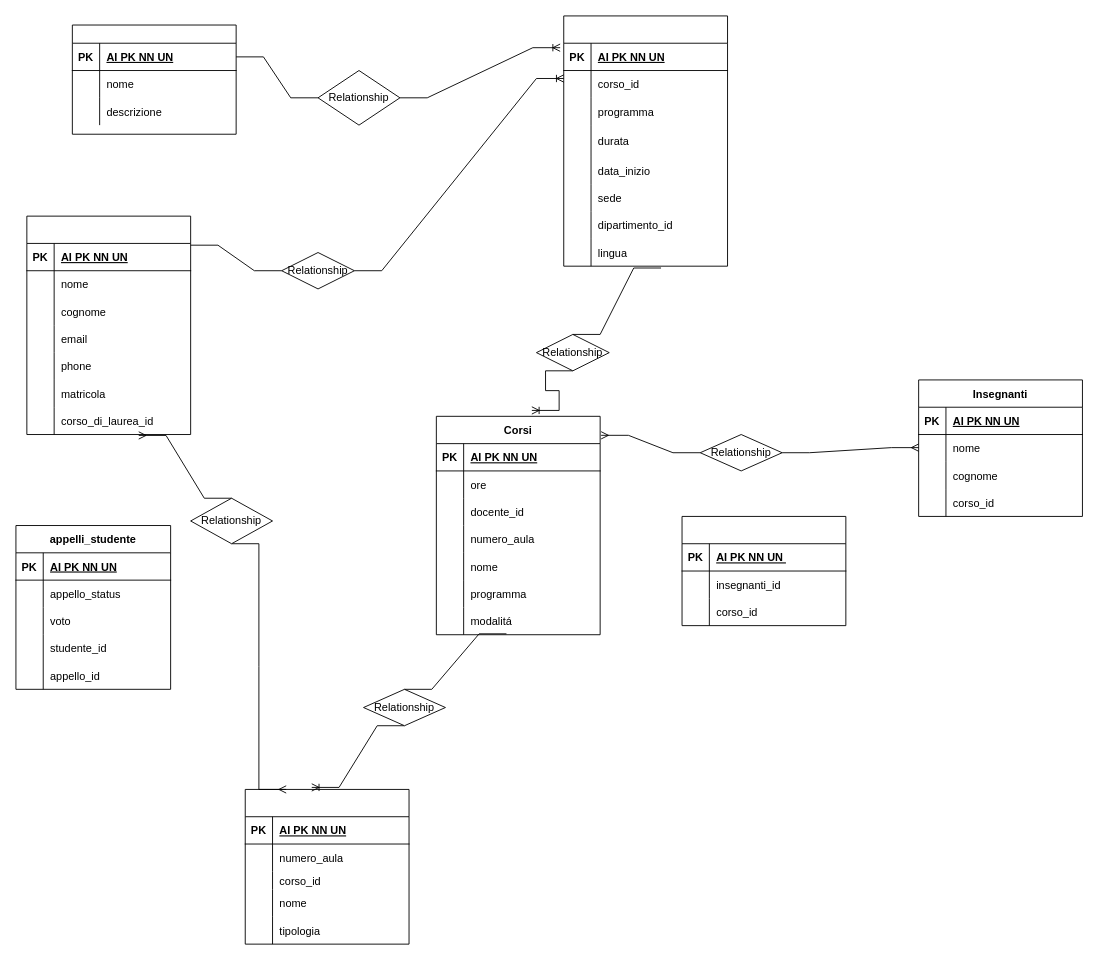
This 1098x960 diagram has some shape labels left out. The shapes that lost their labels are listed below. From the top down, each one's box as (x1, y1, x2, y2) in pixels, then its label:
(71, 24, 236, 134): dipartimenti
(563, 15, 728, 266): corso_di_laurea
(26, 215, 191, 435): studente
(681, 516, 846, 626): corso_insegnanti
(244, 789, 409, 944): appelli
